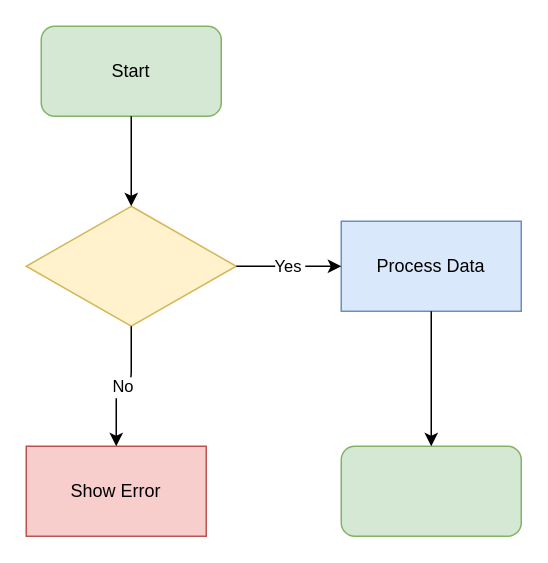
Image size: 548x563. Some labels were removed from this diagram. Each missing label, with the centre of its shape:
End: point 430,490
Is Valid?: point 130,265
